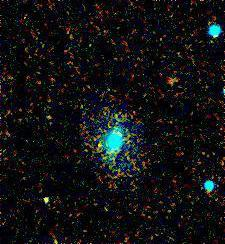star: (84, 129, 114, 159)
